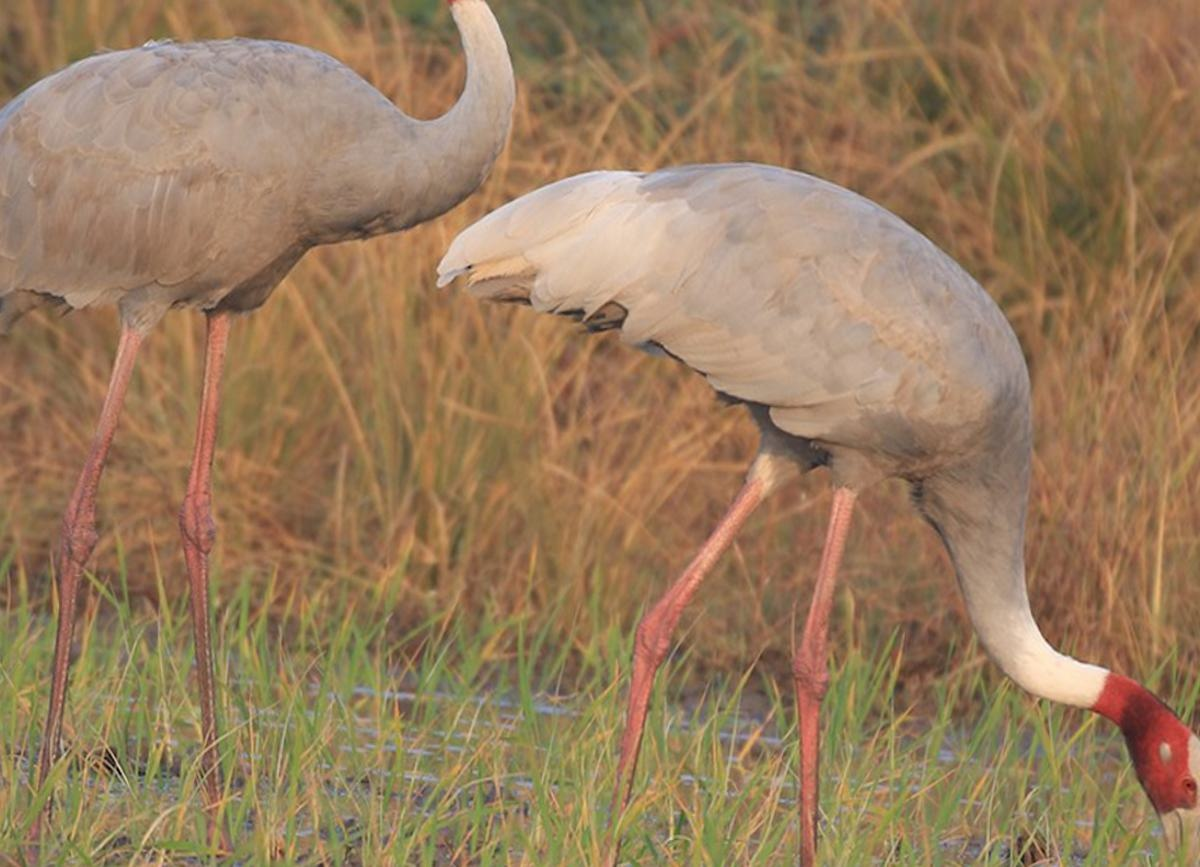crane: (436, 139, 1200, 867)
